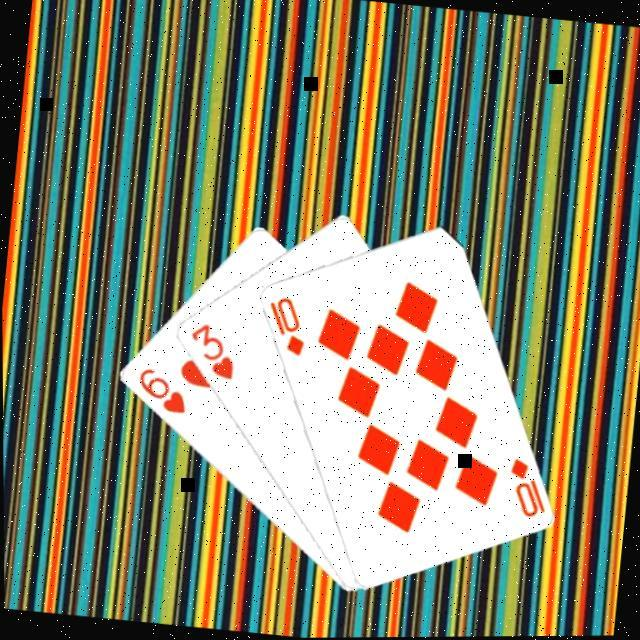10D: (502, 456, 553, 524), (262, 293, 312, 361)
3H: (183, 319, 241, 385)
6H: (132, 365, 193, 420)
